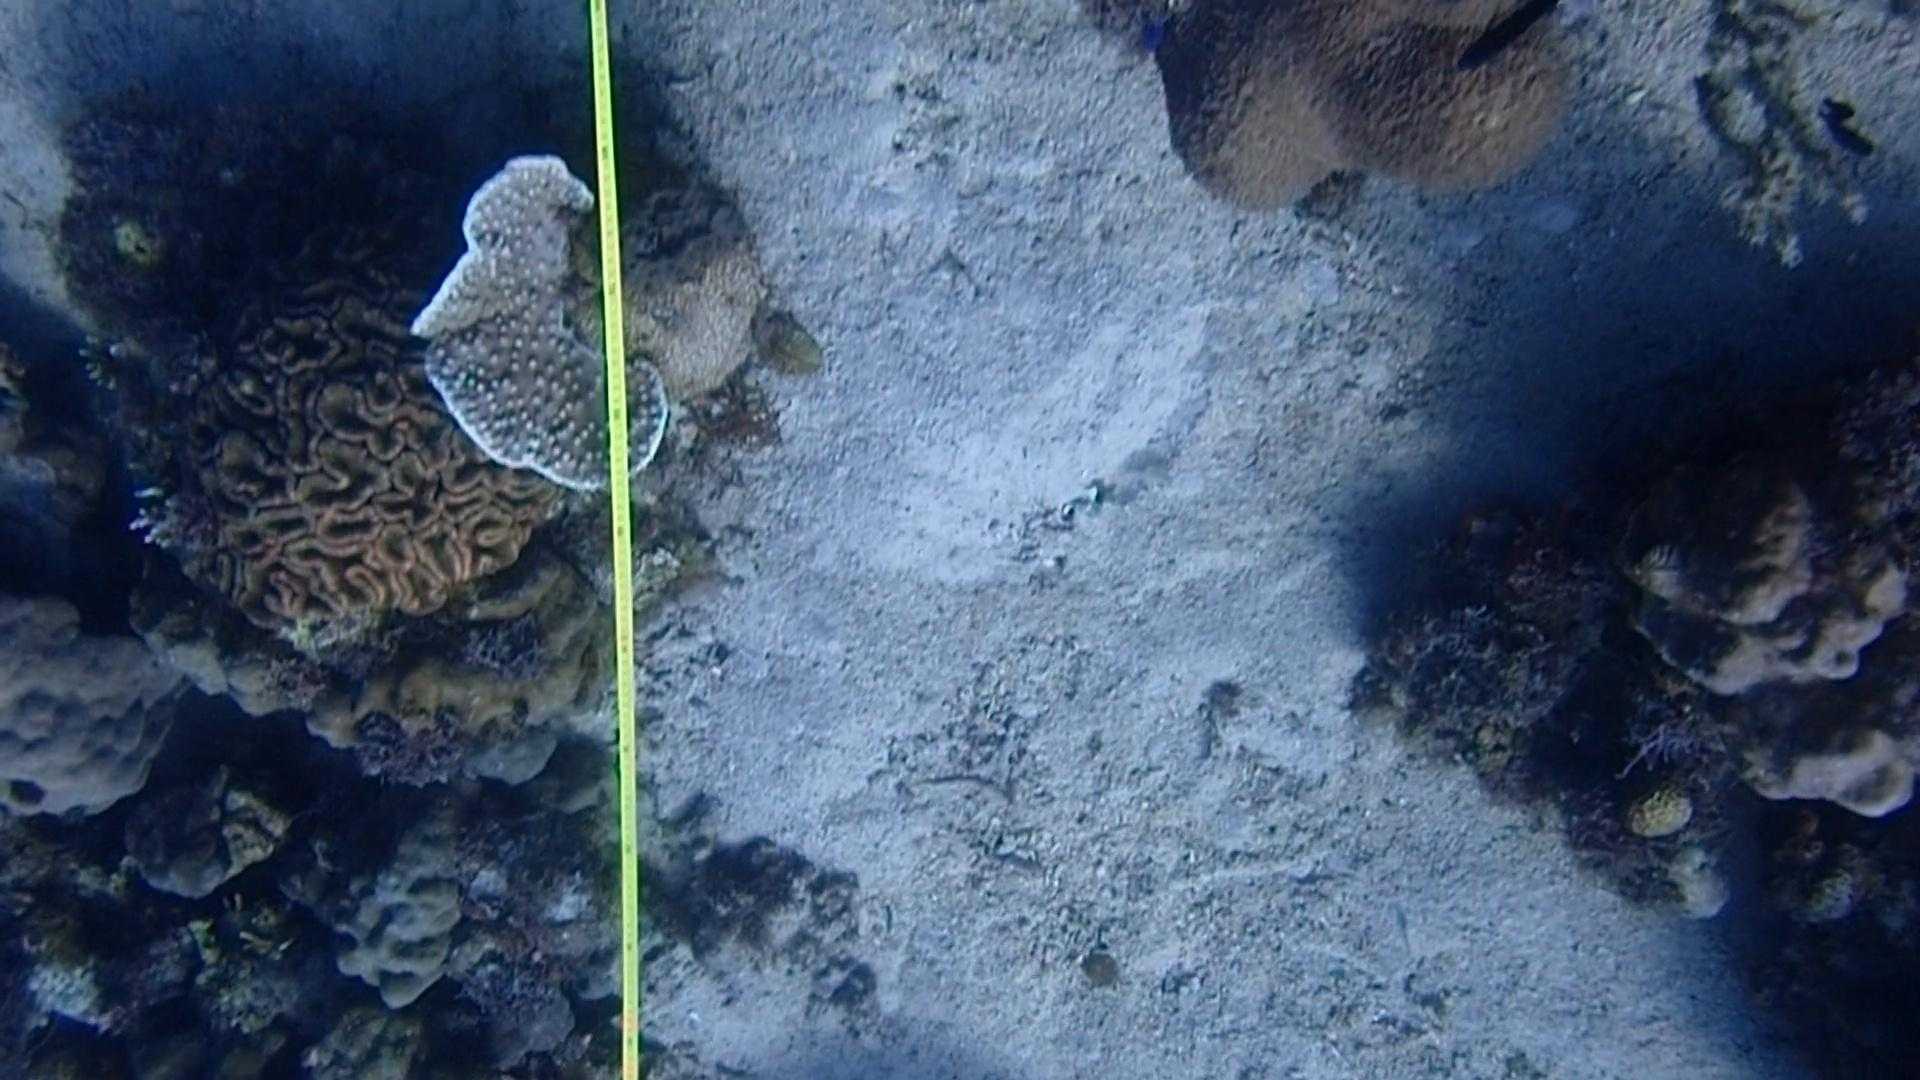Dark Fish: (1447, 0, 1582, 84), (1812, 86, 1880, 167)
